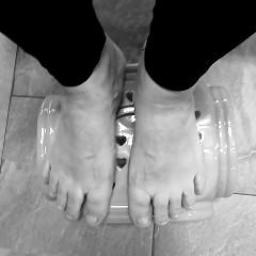Dorsal View -Both Feet-: (18, 27, 228, 245)
